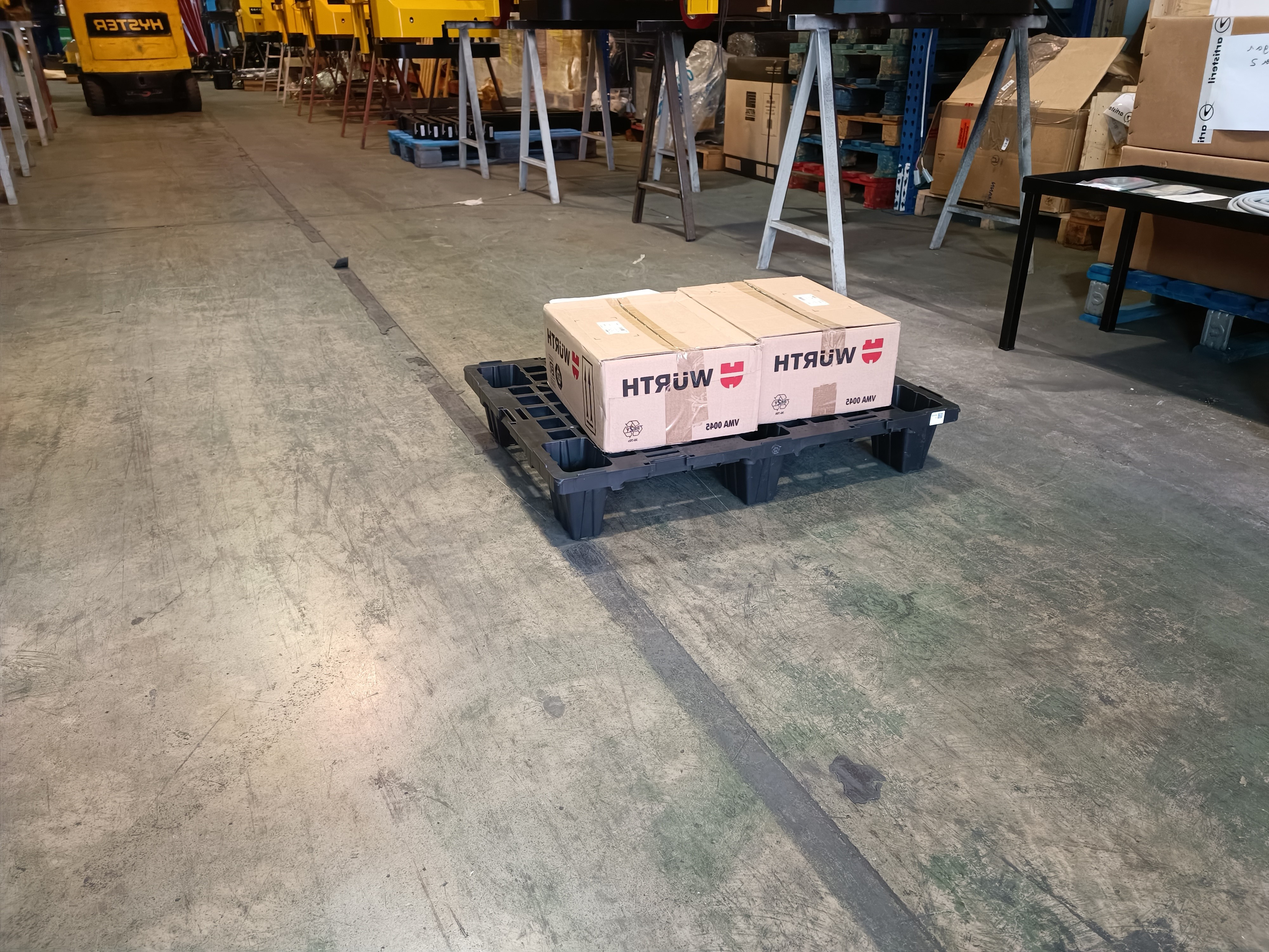block: (726, 453, 782, 506), (551, 487, 604, 541), (877, 434, 940, 476), (484, 399, 518, 448)
front: (566, 402, 952, 552)
hole pallet: (600, 462, 747, 535), (784, 436, 905, 500)
